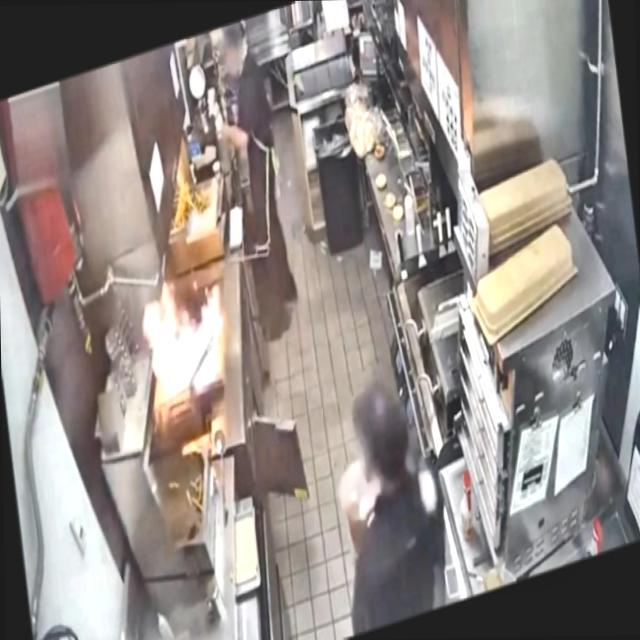fire: (122, 235, 248, 438)
